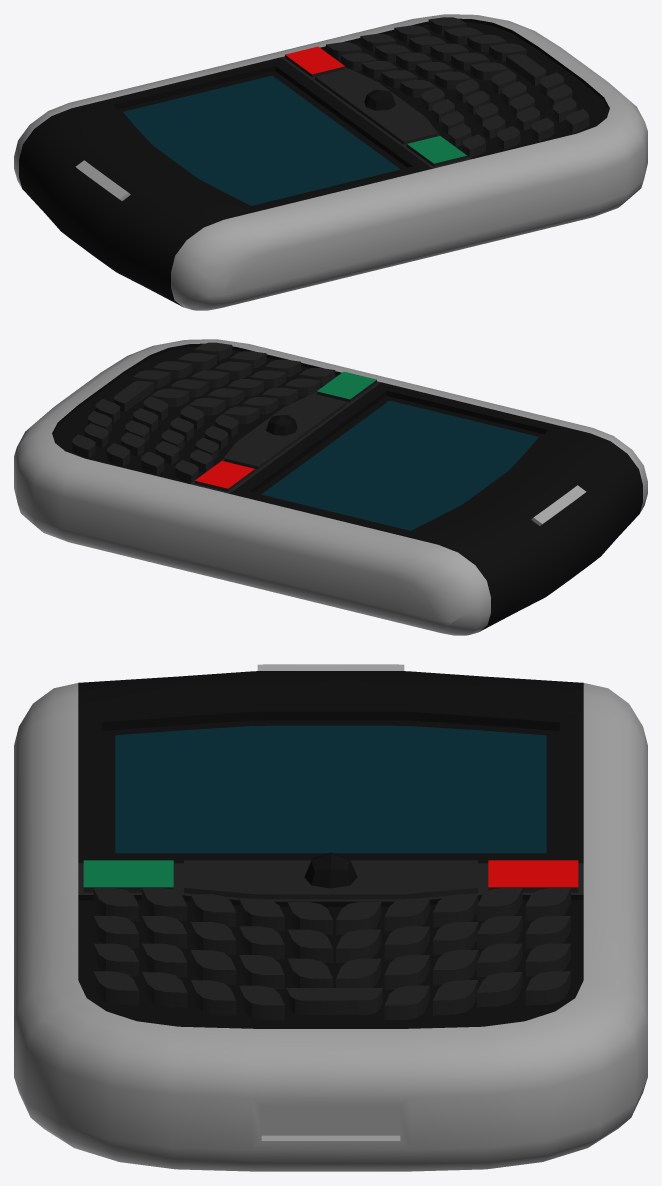
The model's file is Phone_Mobile_03.glb.
3 views of the same model, one above another, from view 1: azimuth 30°, elevation 25°; view 2: azimuth 150°, elevation 25°; view 3: azimuth 270°, elevation 25° (orthographic). The views are drawn at different scales.
Parts seen in each view (by area): view 1: Mesh_Phone_Mobile_03; view 2: Mesh_Phone_Mobile_03; view 3: Mesh_Phone_Mobile_03.
Part boxes in pixels (x1,y1,x2,y2): Mesh_Phone_Mobile_03: (14, 14, 647, 310); Mesh_Phone_Mobile_03: (14, 339, 647, 635); Mesh_Phone_Mobile_03: (14, 664, 647, 1171).
Bounding box in the file's own units: 0.0939 × 0.0172 × 0.0604.
1 material, 1 textured.
